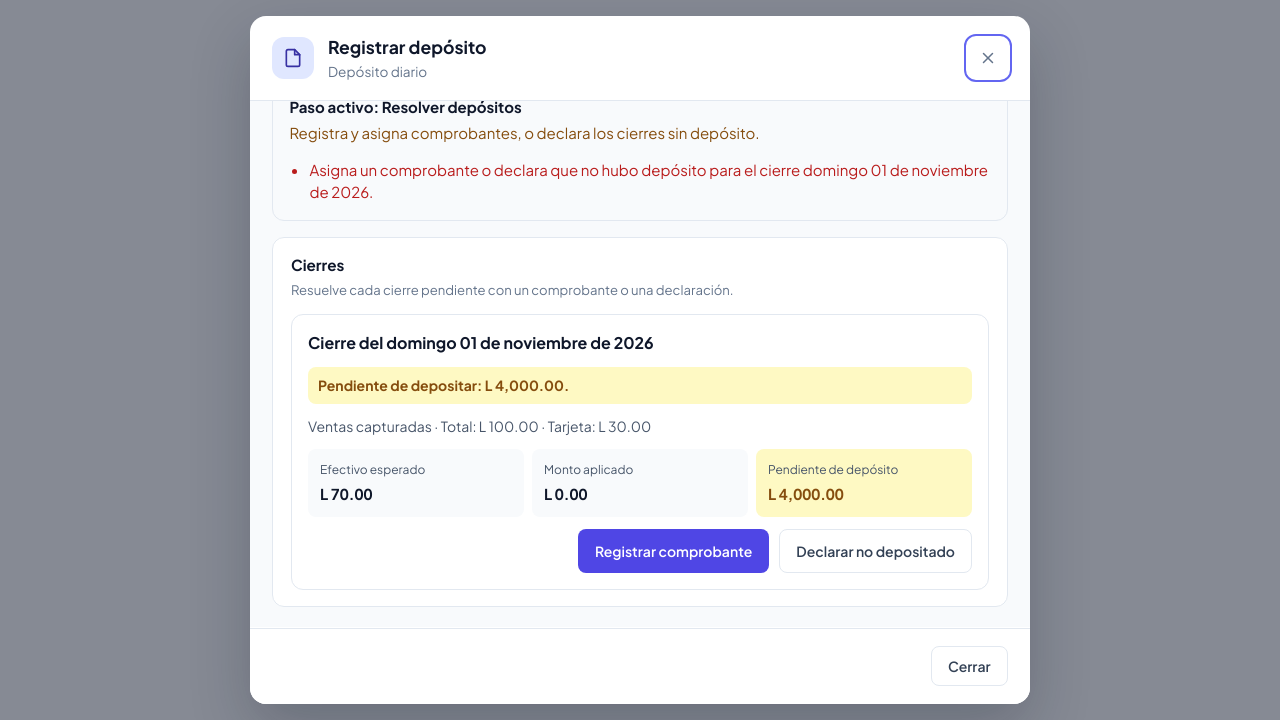
Test: DepositDemoModal › reveals the receipt form on demand and lets a declaration return to the available actions
(page scrolled)
Click the button "Registrar comprobante" at (674, 551), box x1=578 y1=529 x2=769 y2=573
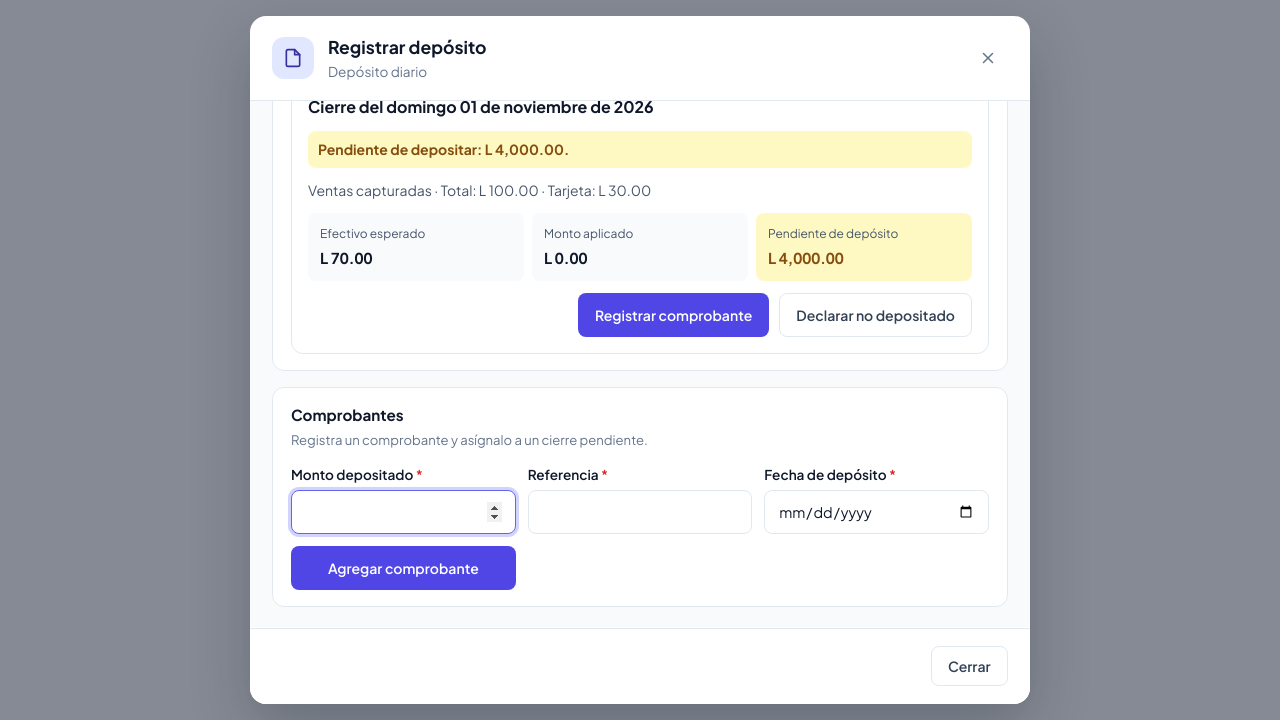
Click the button "Registrar comprobante" at (674, 315), box x1=578 y1=293 x2=769 y2=337
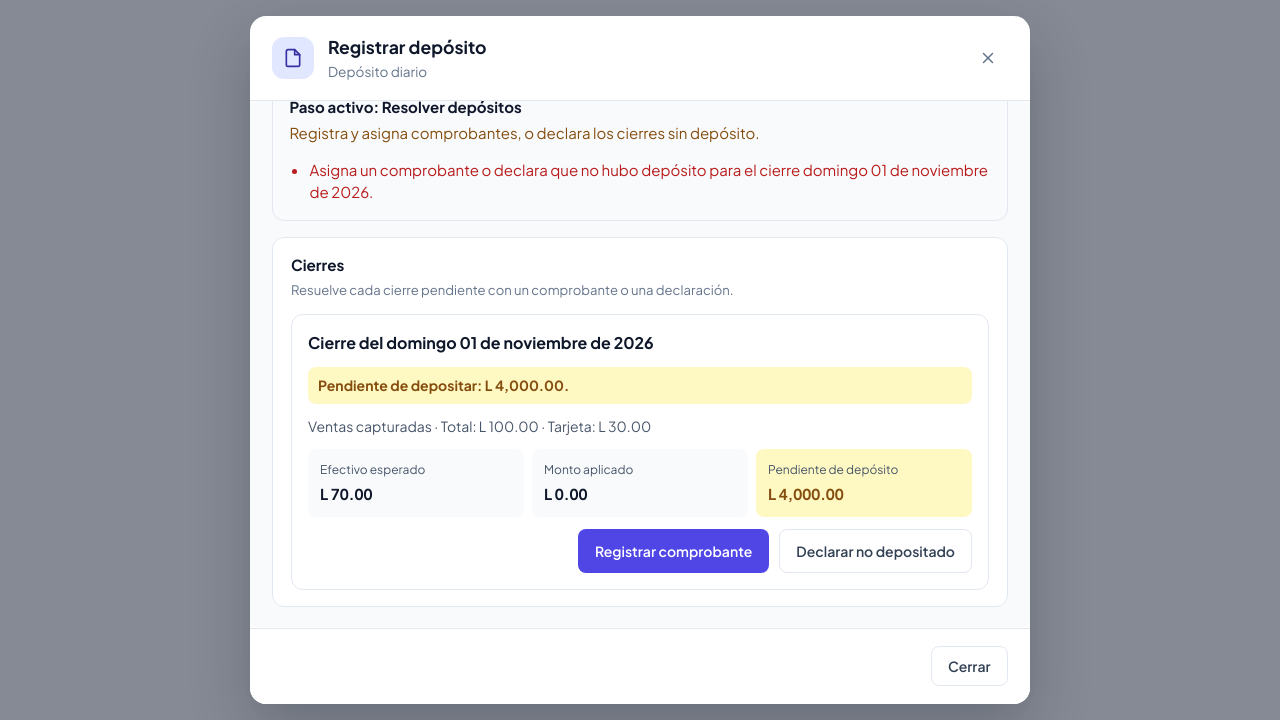
Check: the label labelled "Monto depositado *" is gone
Click the button "Declarar no depositado" at (876, 551), box x1=779 y1=529 x2=972 y2=573
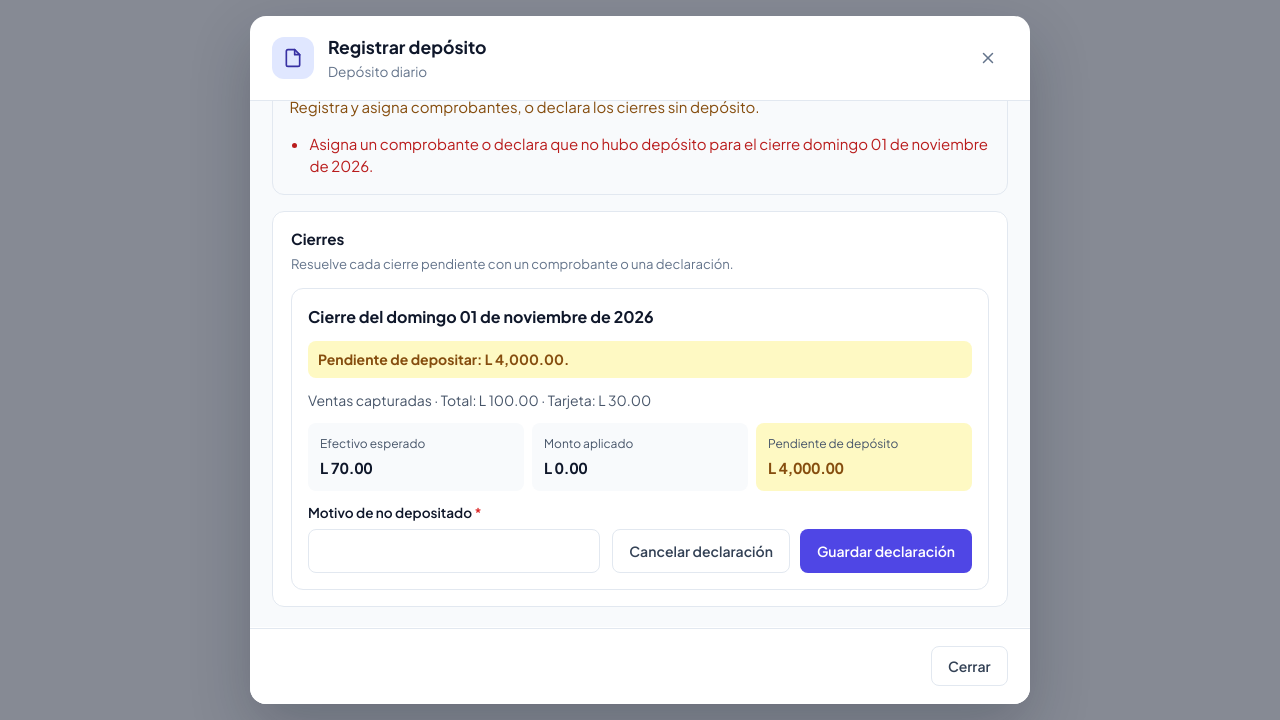
Check: the button "Cancelar declaración" is shown
Click the button "Cancelar declaración" at (701, 551), box x1=612 y1=529 x2=790 y2=573
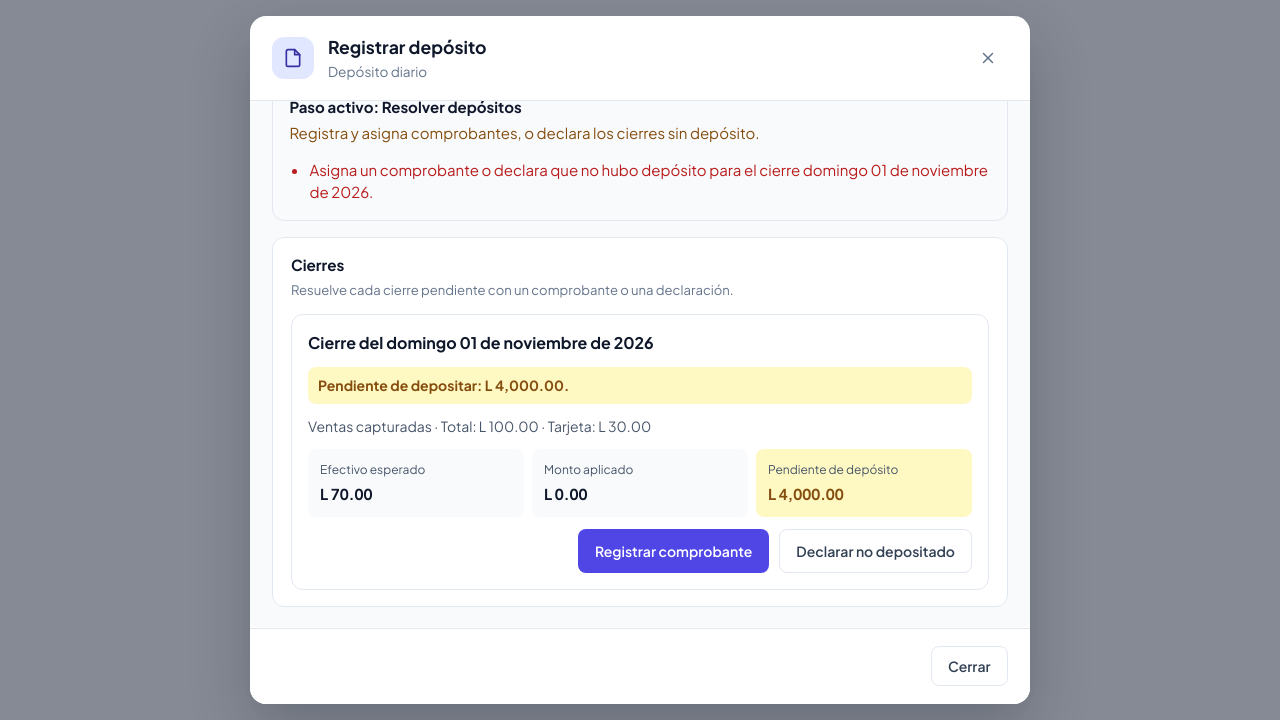
Check: the button "Registrar comprobante" is shown, box x1=578 y1=529 x2=769 y2=573
